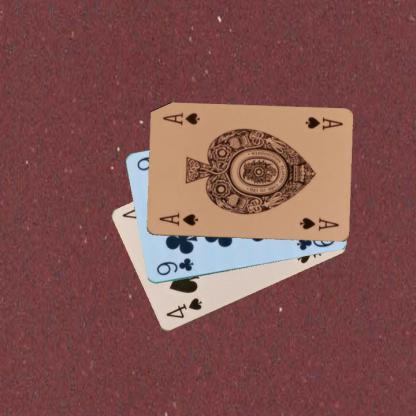4s: (164, 295, 204, 320)
9c: (154, 255, 194, 277)
As: (156, 211, 199, 228), (302, 115, 344, 132)
